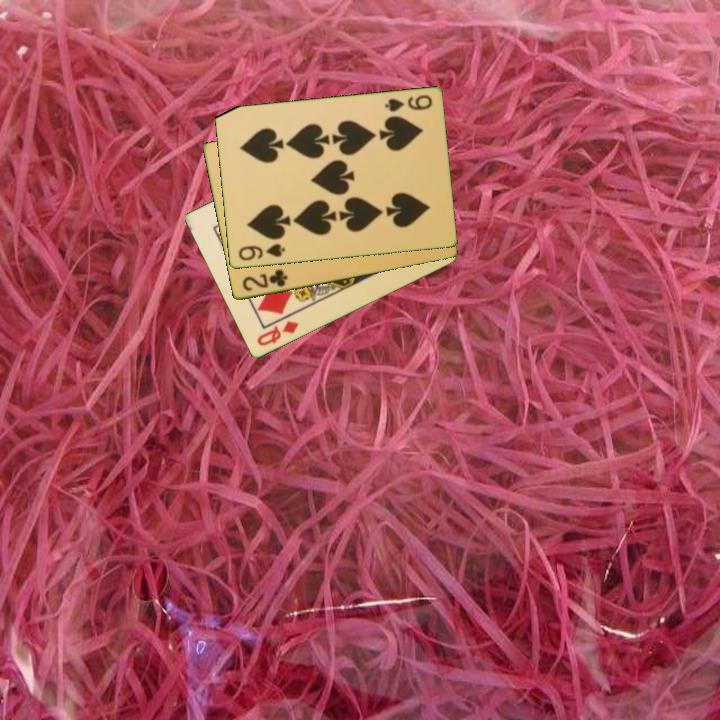2c: (238, 266, 290, 294)
9s: (381, 91, 435, 115), (235, 240, 288, 264)
Qd: (253, 318, 301, 349)
